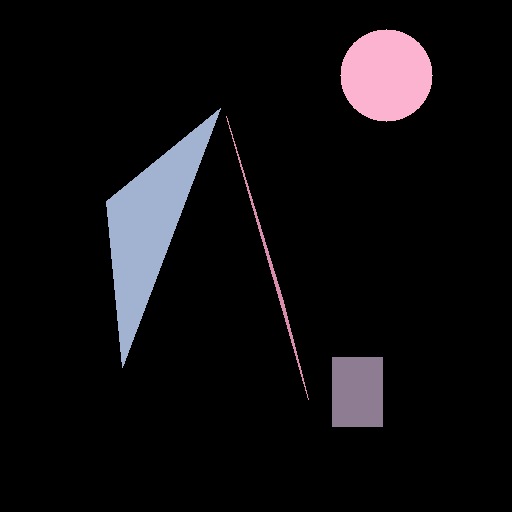circle: (340, 29, 432, 121)
rectangle: (332, 357, 382, 426)
triangle: (106, 108, 220, 367)
